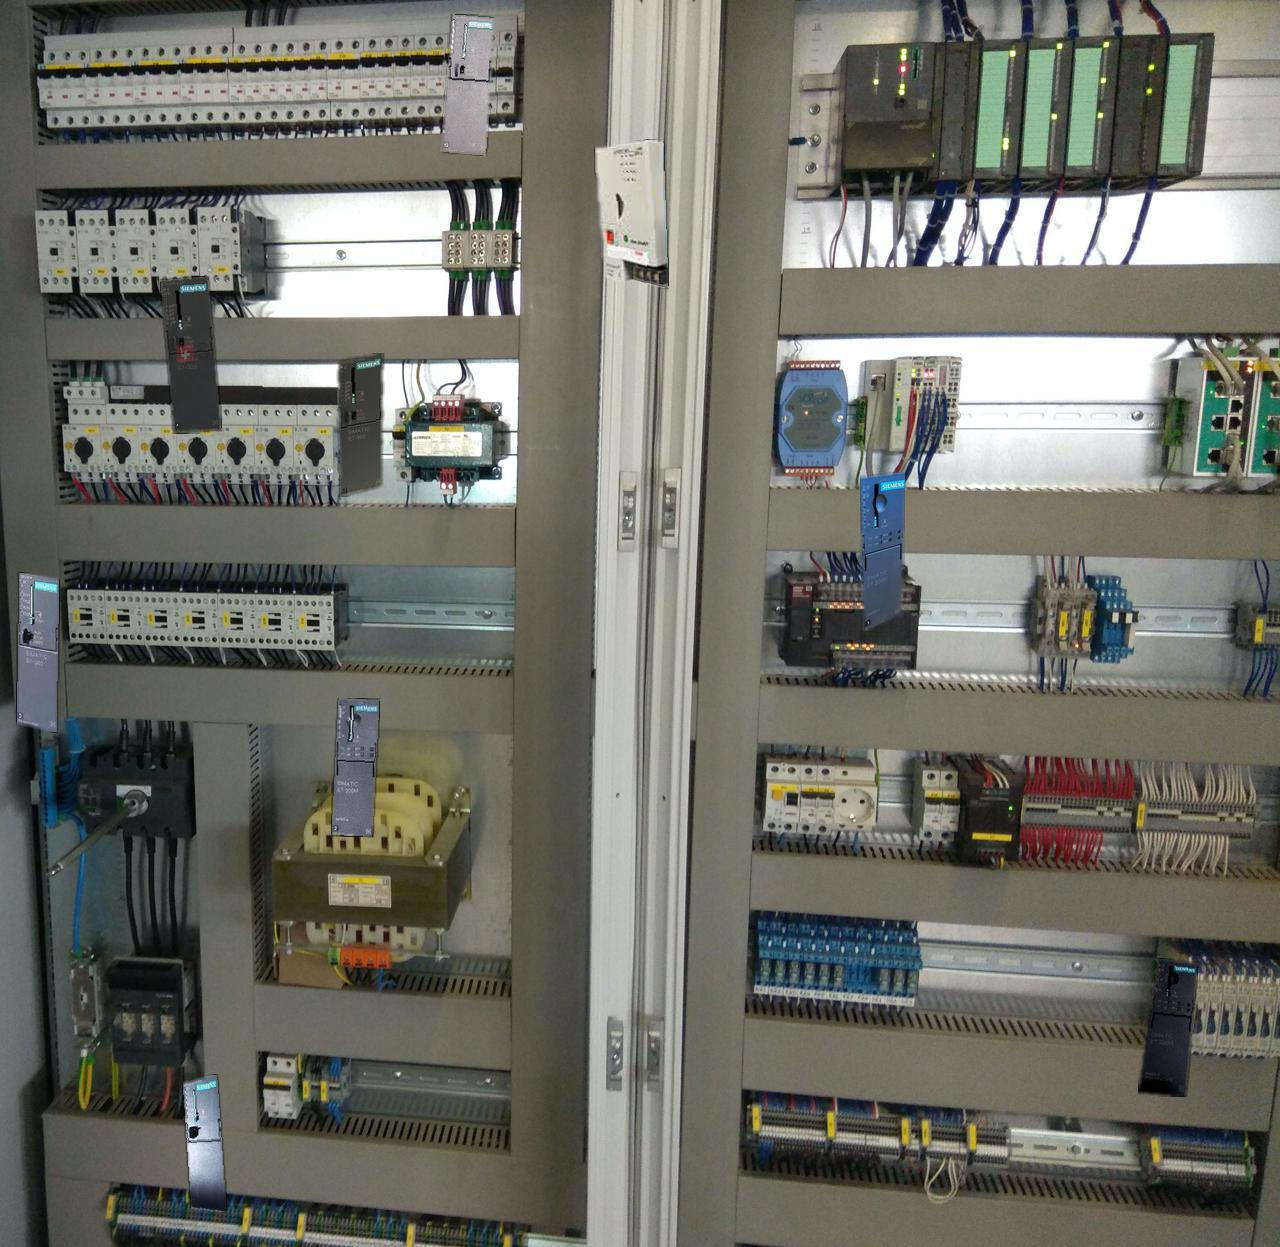AllenBradley: (595, 139, 667, 287)
Siemens: (160, 275, 221, 433), (442, 14, 493, 154), (17, 573, 58, 732), (338, 353, 382, 496), (183, 1076, 226, 1212)
